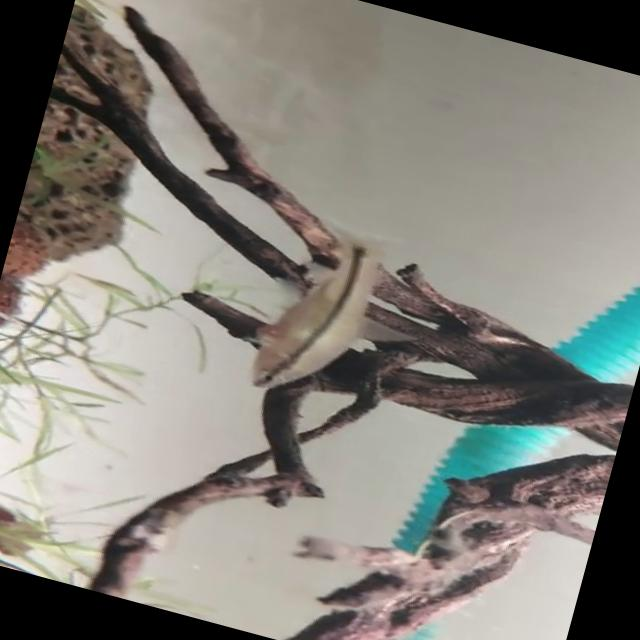Cakil Baligi: (240, 203, 438, 424)
